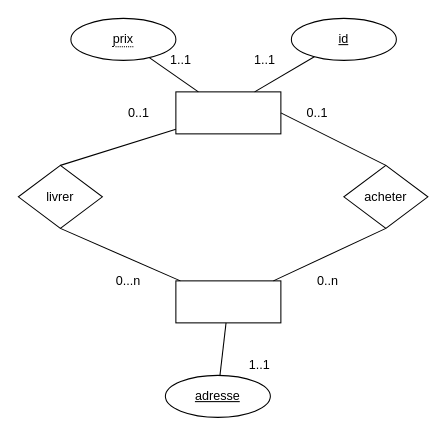
Some shapes in this 446 by 436 pixel diagram are drawn without their labels. Each missing label, with the box of its shape:
Chaussure: (175, 91, 281, 134)
Client: (175, 280, 281, 323)
